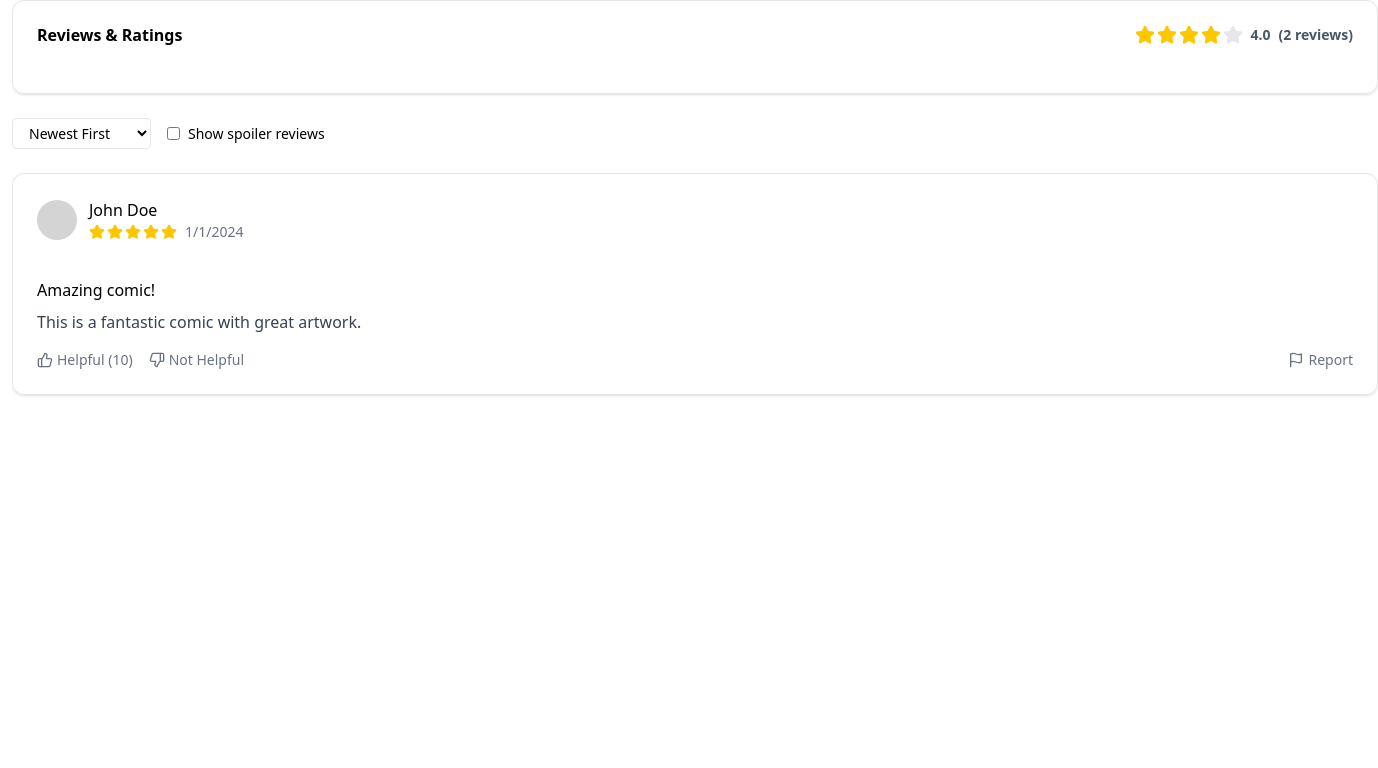
Test: ReviewSection › shows spoiler reviews when checkbox is checked
Click the checkbox labelled "Show spoiler reviews".
click(174, 134)  # box [167,127,180,140]
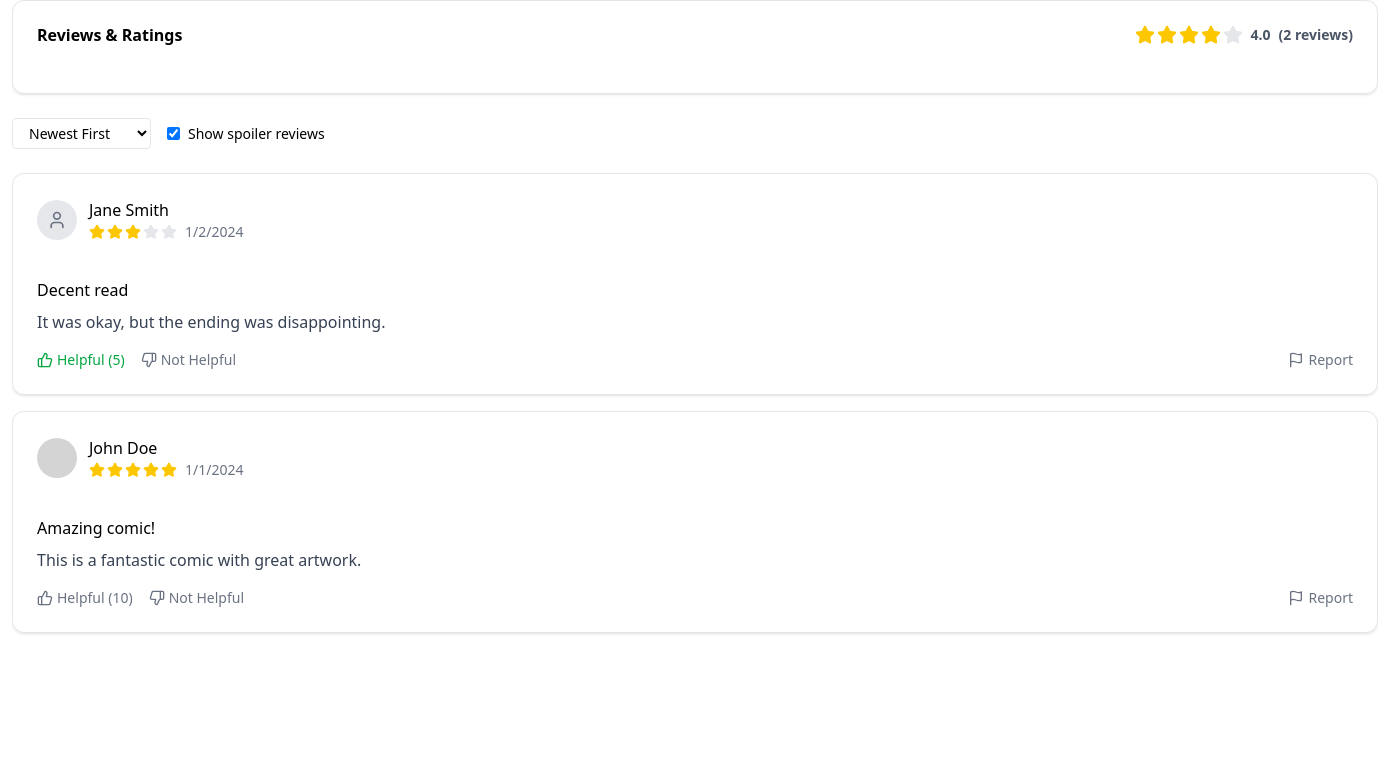
Check: the text "It was okay, but the ending was disappointing." is shown, box [37,311,386,333]
